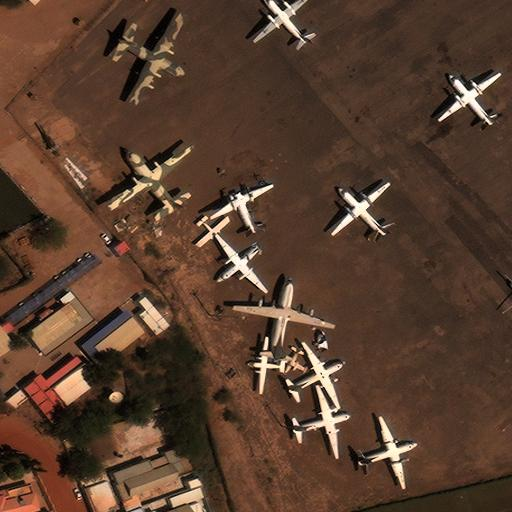Medium Civil Transport: (246, 337, 284, 394), (199, 219, 230, 248)
Military Transport: (233, 276, 335, 360), (117, 15, 184, 105), (106, 143, 191, 209), (358, 415, 418, 488), (292, 384, 350, 458), (286, 341, 345, 407), (436, 72, 499, 124), (330, 181, 387, 234), (252, 0, 310, 42)
Small Civil Transport: (276, 347, 304, 372)
